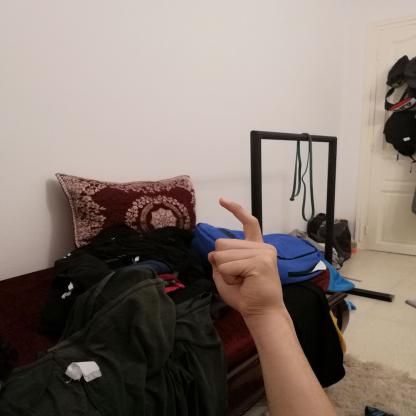RAA: (198, 193, 292, 321)
